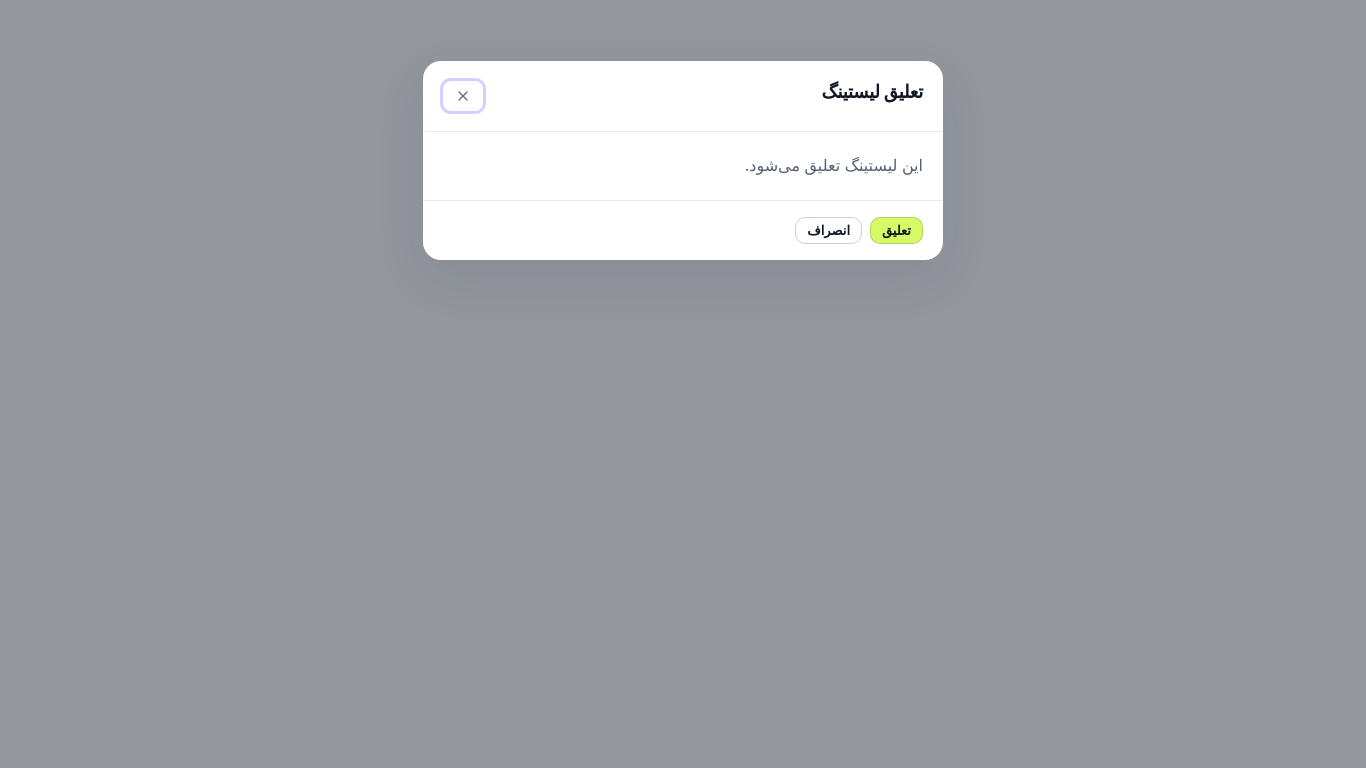
Test: ConfirmDialog › surfaces an inline failure and stays open when onConfirm rejects
This screenshot has width=1366, height=768.
Later steps or results of the test are not shown.
Click the button "تعلیق" at (896, 230), box [870, 217, 923, 244]
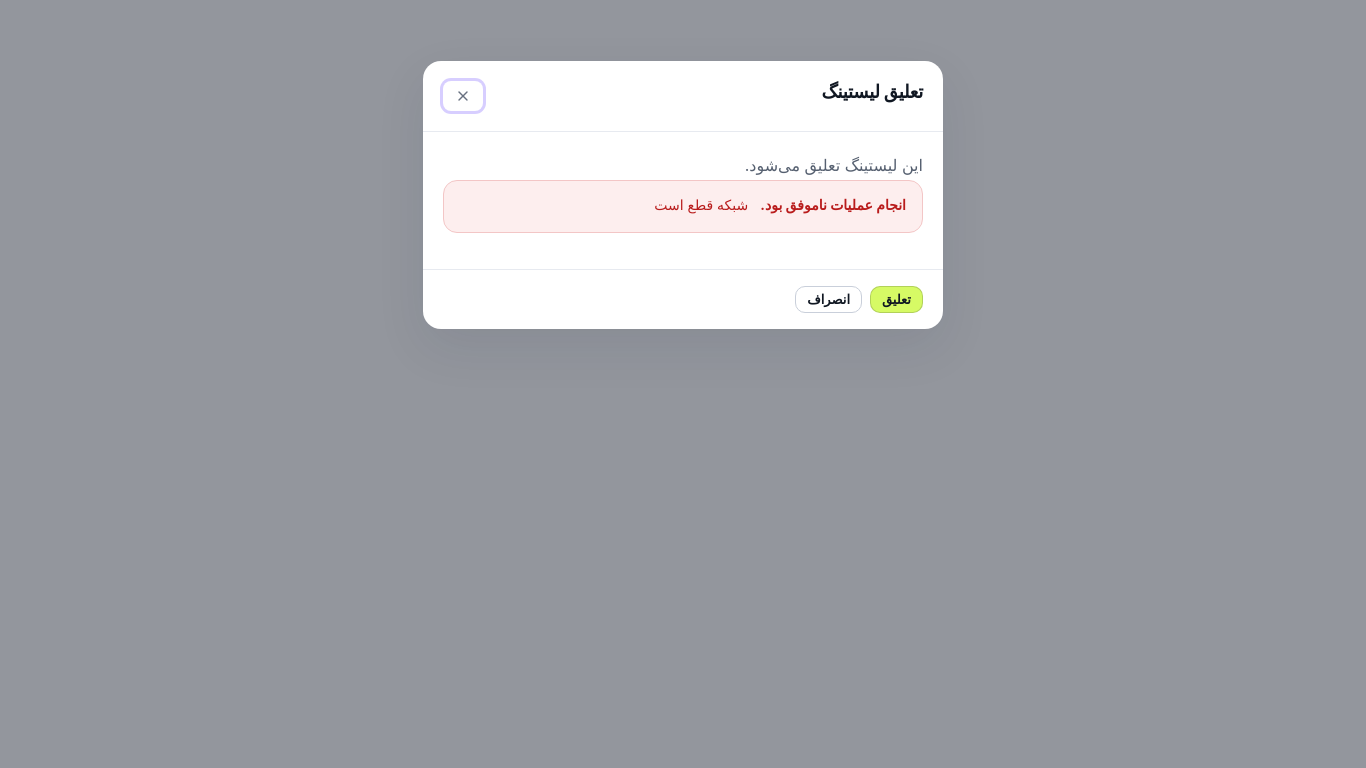
Expected: the text "شبکه قطع است" is shown, [654, 196, 748, 213]
